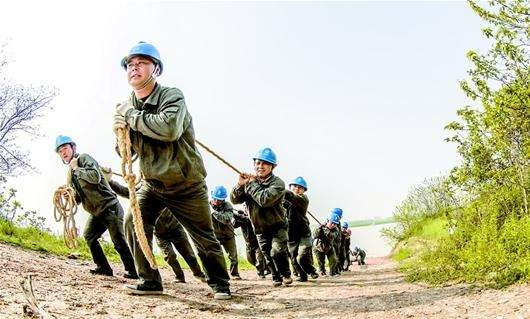blue: (122, 38, 162, 90), (54, 133, 77, 163), (253, 148, 276, 177), (209, 184, 227, 209), (288, 173, 306, 198), (325, 212, 339, 230)
